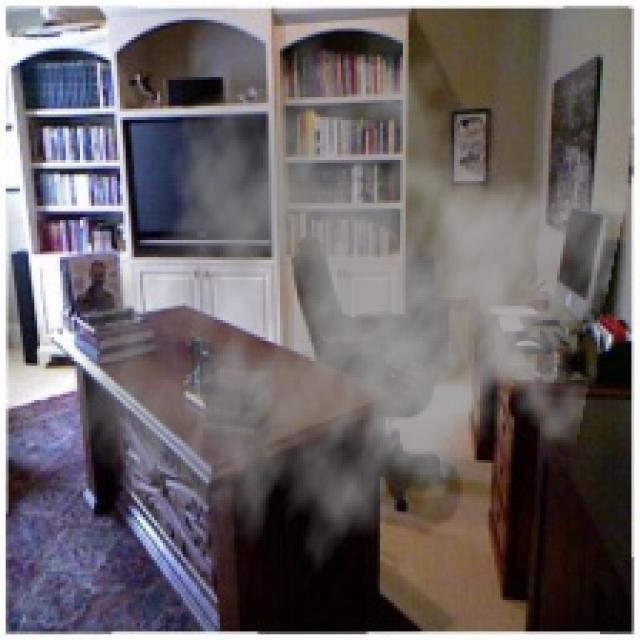smoke: (69, 29, 632, 594)
